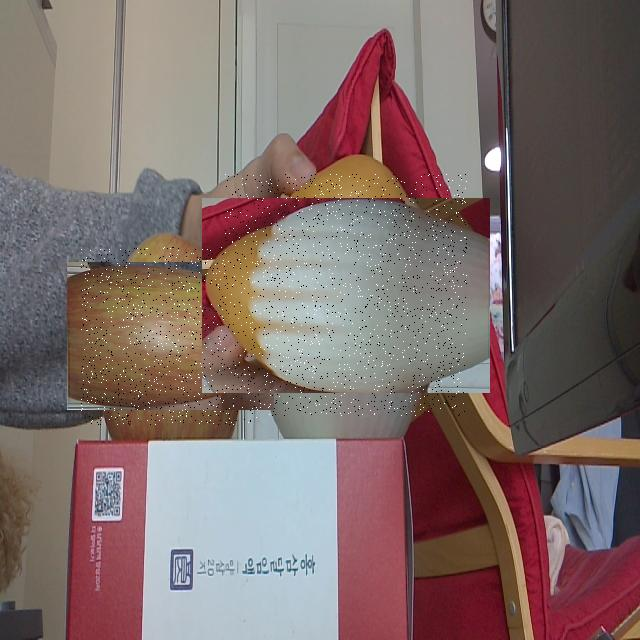apple: (81, 247, 259, 425)
pear: (225, 174, 467, 416)
